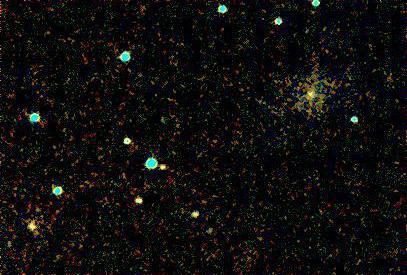star: (146, 155, 176, 185)
